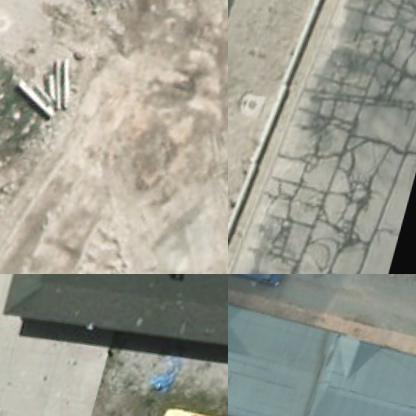car: (228, 274, 286, 290), (155, 405, 227, 415)
